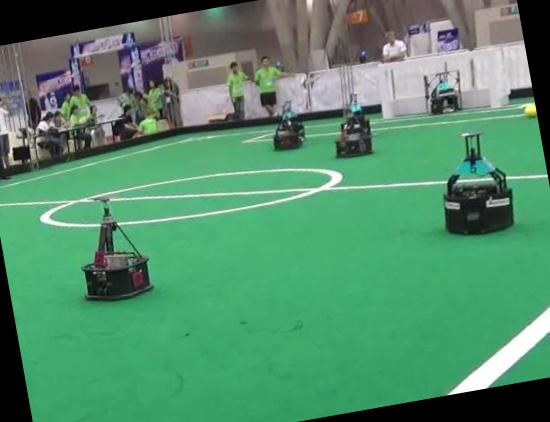ball: (524, 103, 536, 116)
goal: (485, 49, 502, 108), (378, 65, 394, 117)
robot: (82, 196, 151, 299), (444, 132, 513, 232), (335, 102, 372, 156), (424, 62, 463, 113), (274, 100, 305, 149)
